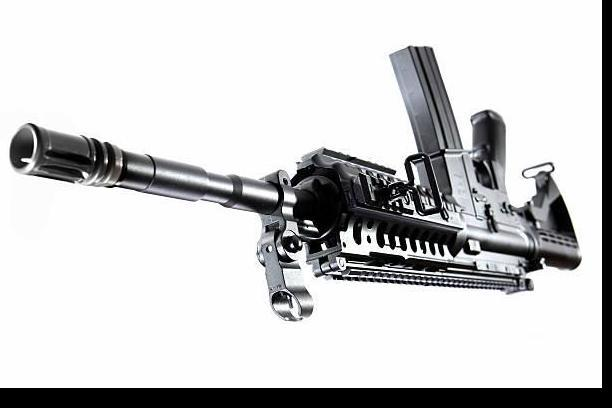larga: (8, 45, 583, 323)
